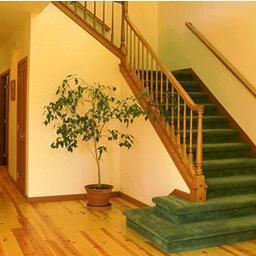Escaleras: (125, 48, 255, 246)
Matera: (47, 77, 169, 201)
